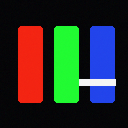3 line_h: (79, 79, 115, 85)
